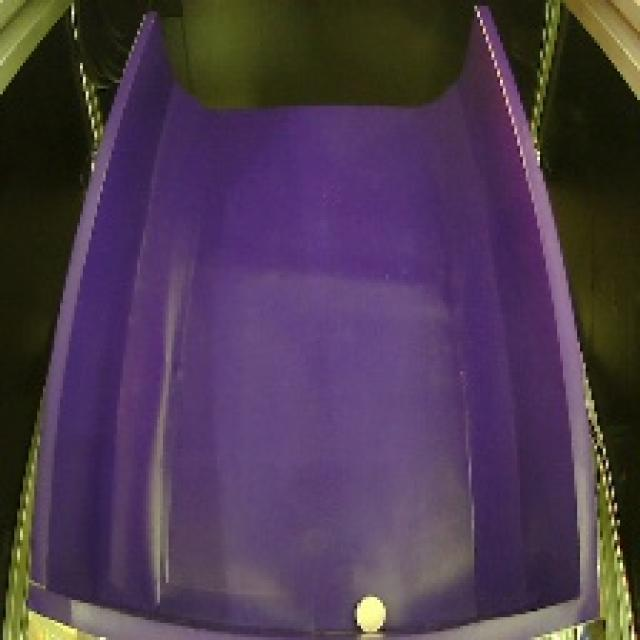small: (352, 585, 391, 638)
